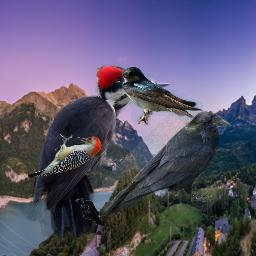Crow: (102, 111, 232, 216), (75, 198, 103, 225)
Swallow: (122, 67, 203, 126)
Woodpecker: (26, 64, 173, 238), (28, 133, 102, 179)
